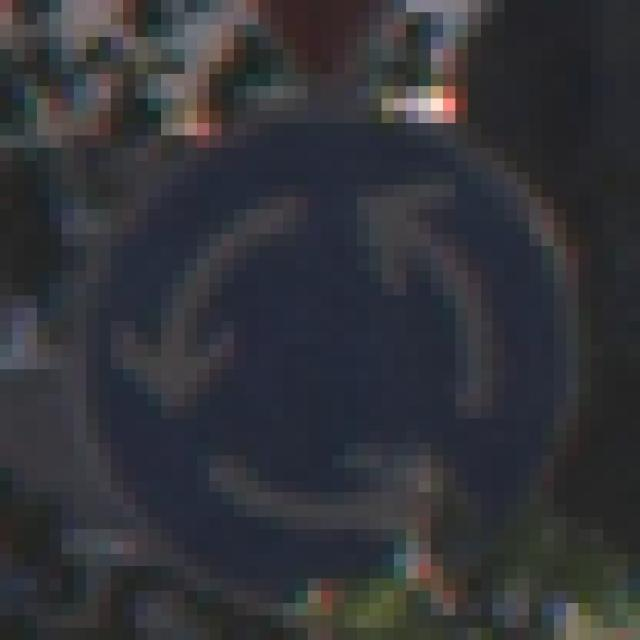Round-About: (74, 86, 615, 628)
